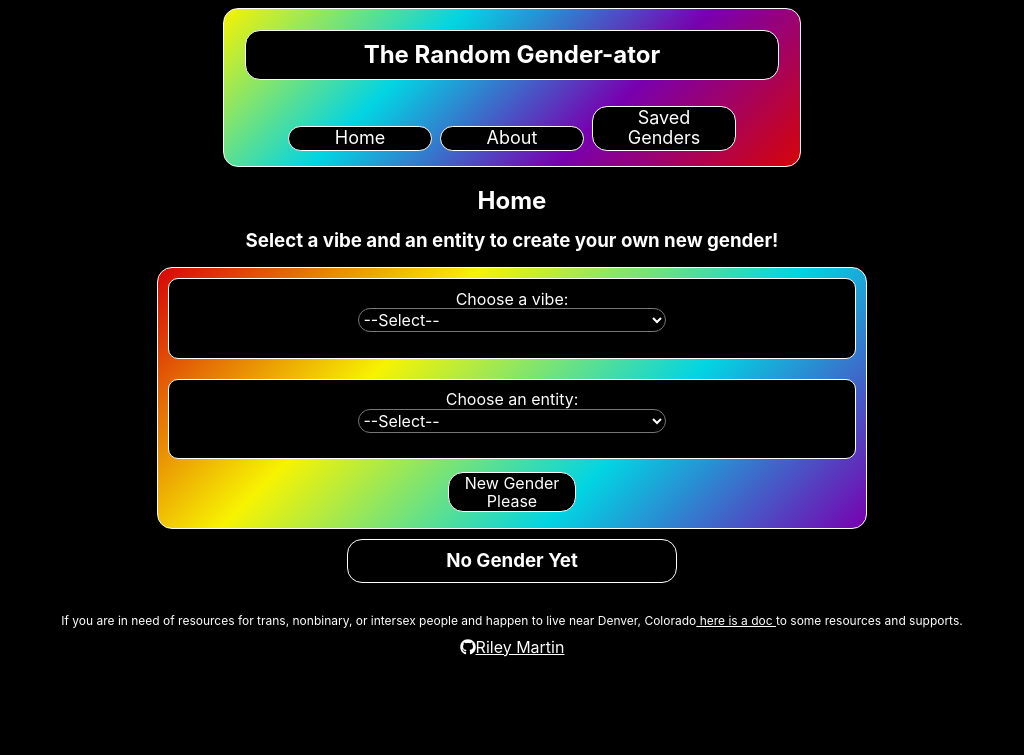
Test: Form › Should have a button that displays a new gender when all select fields have selections made and button is clicked
The width and height of the screenshot is (1024, 755).
Select "Trash" in the dropdown named "vibe". click: (512, 320)
box: [358,308,665,332]
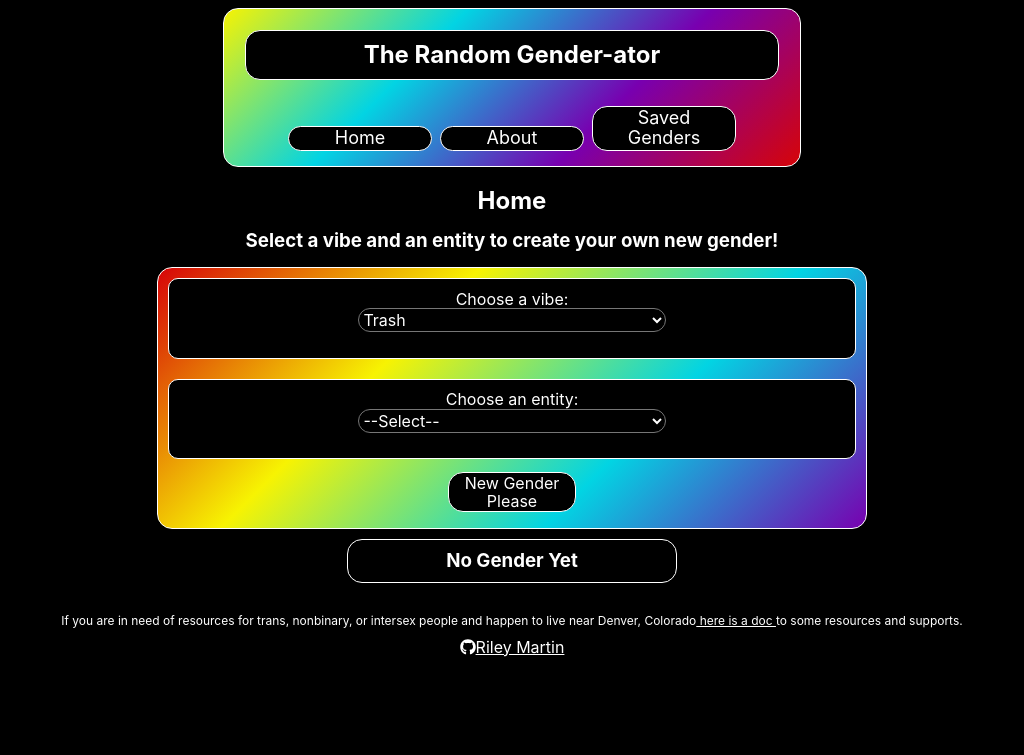
Select "Animal" in the dropdown named "entity". click: (512, 421)
box: [358,409,665,433]
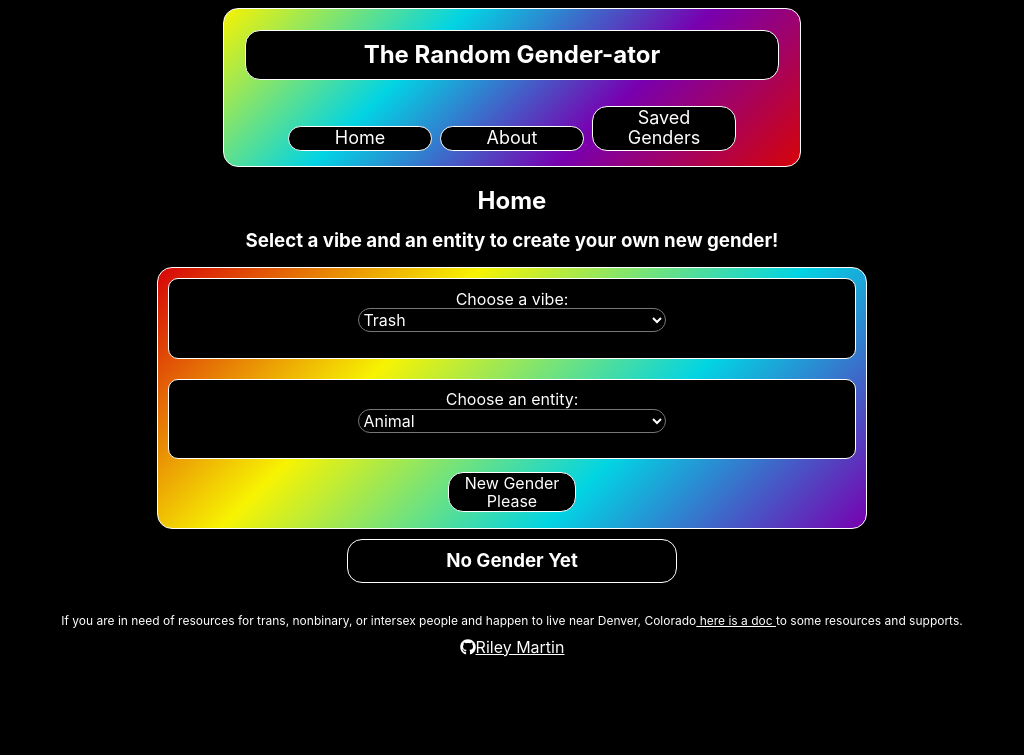
Click the button with class "new-gender-btn". click: (512, 493)
box: [448,472,576,513]
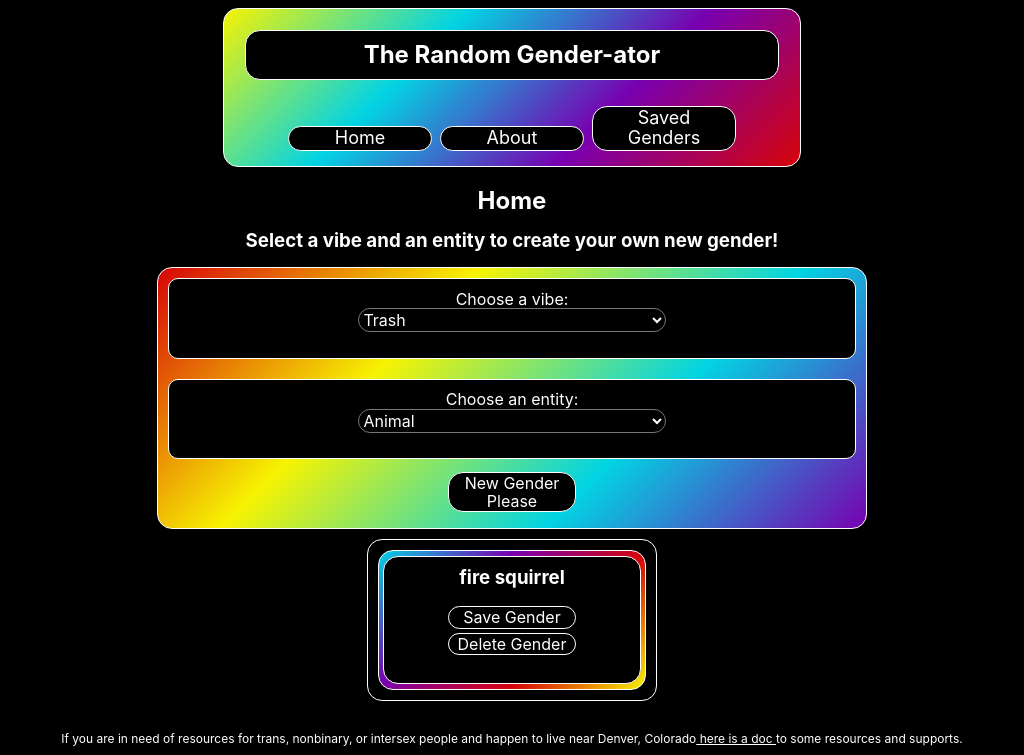
Result: the heading "fire squirrel" is shown at [459,568,565,589]
